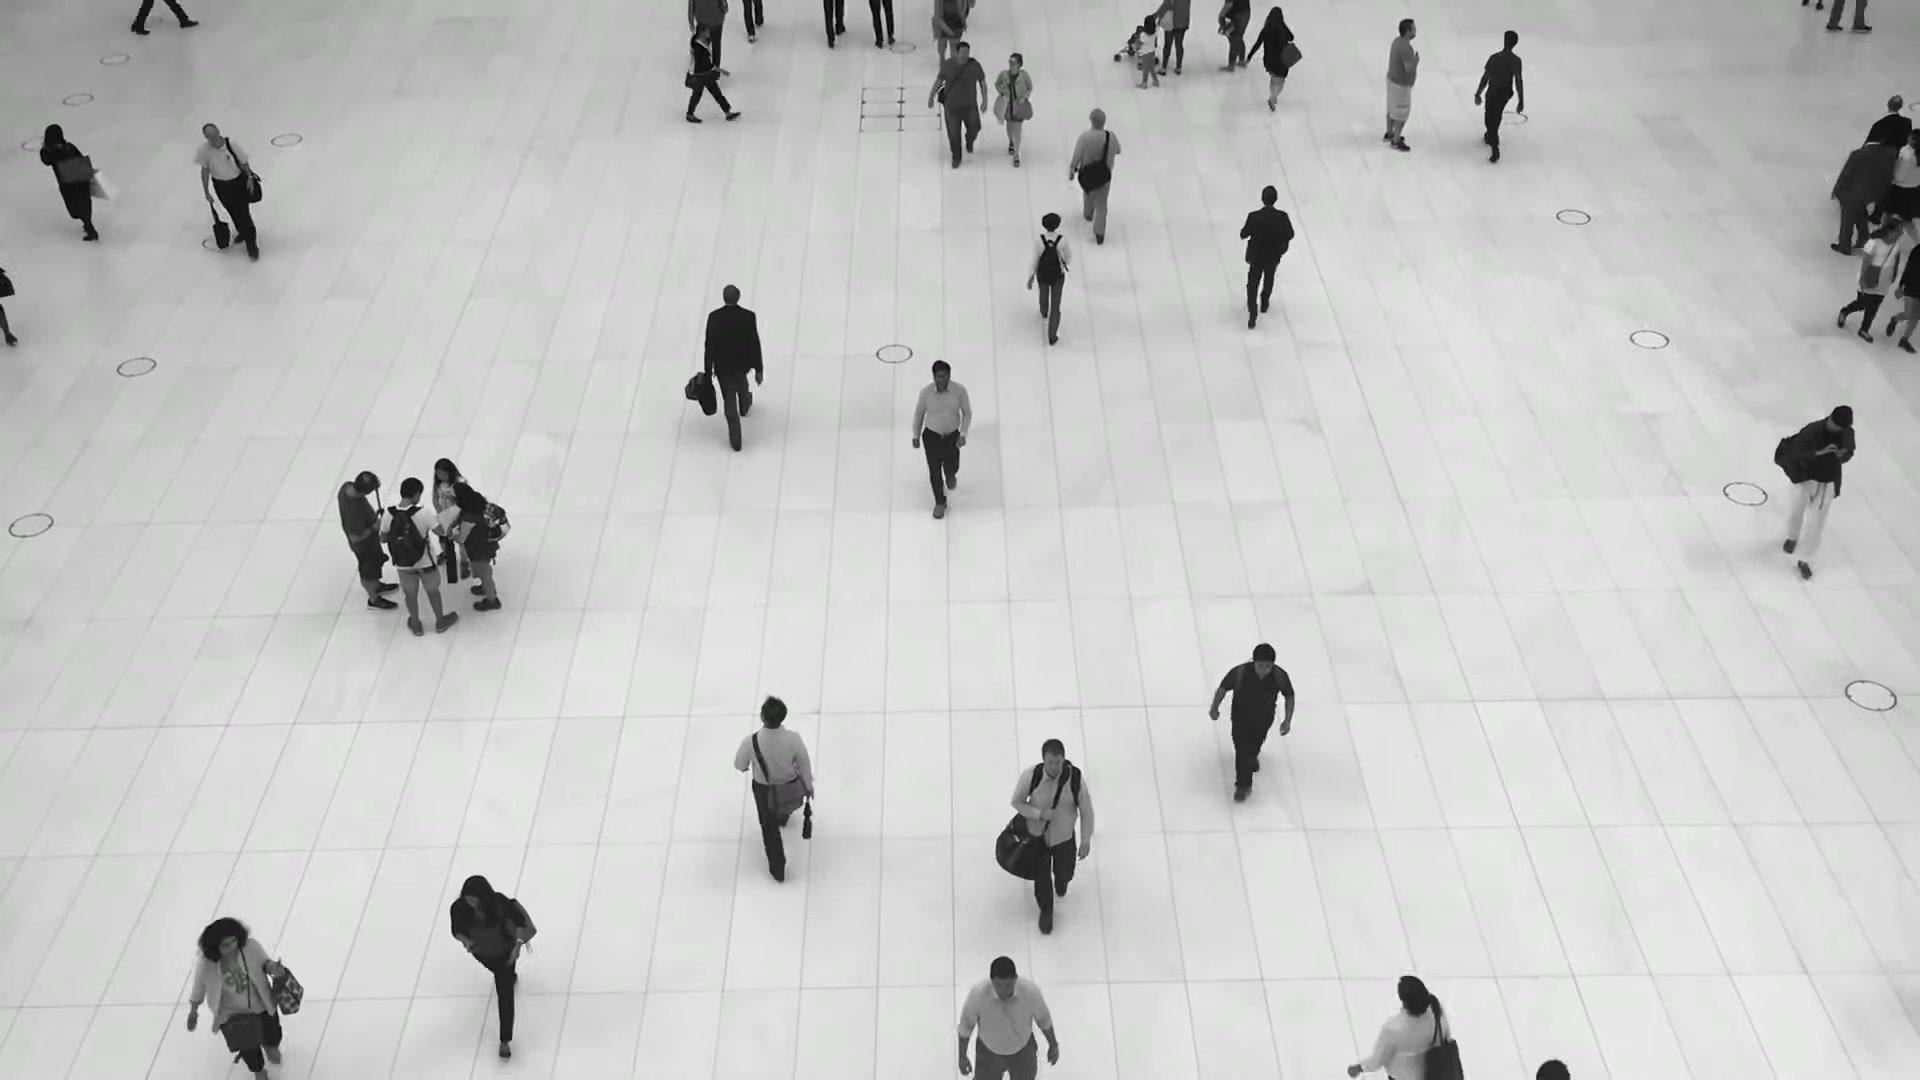person: (1011, 742, 1095, 948), (189, 918, 288, 1080), (734, 693, 815, 874), (449, 874, 526, 1055), (377, 477, 459, 637), (1781, 404, 1858, 573), (1213, 641, 1295, 792), (954, 960, 1056, 1079), (912, 361, 975, 526), (704, 282, 765, 446), (1358, 971, 1446, 1080), (194, 121, 261, 261), (335, 466, 400, 611), (1822, 127, 1895, 256), (1238, 185, 1295, 334), (1837, 217, 1902, 347), (929, 42, 989, 172), (1067, 106, 1124, 242), (39, 123, 99, 243), (449, 482, 501, 612), (1474, 29, 1525, 161), (1027, 209, 1072, 341), (1382, 17, 1420, 151), (1248, 8, 1295, 114), (426, 458, 466, 580), (690, 21, 736, 123), (994, 51, 1034, 164), (1136, 15, 1159, 90)
